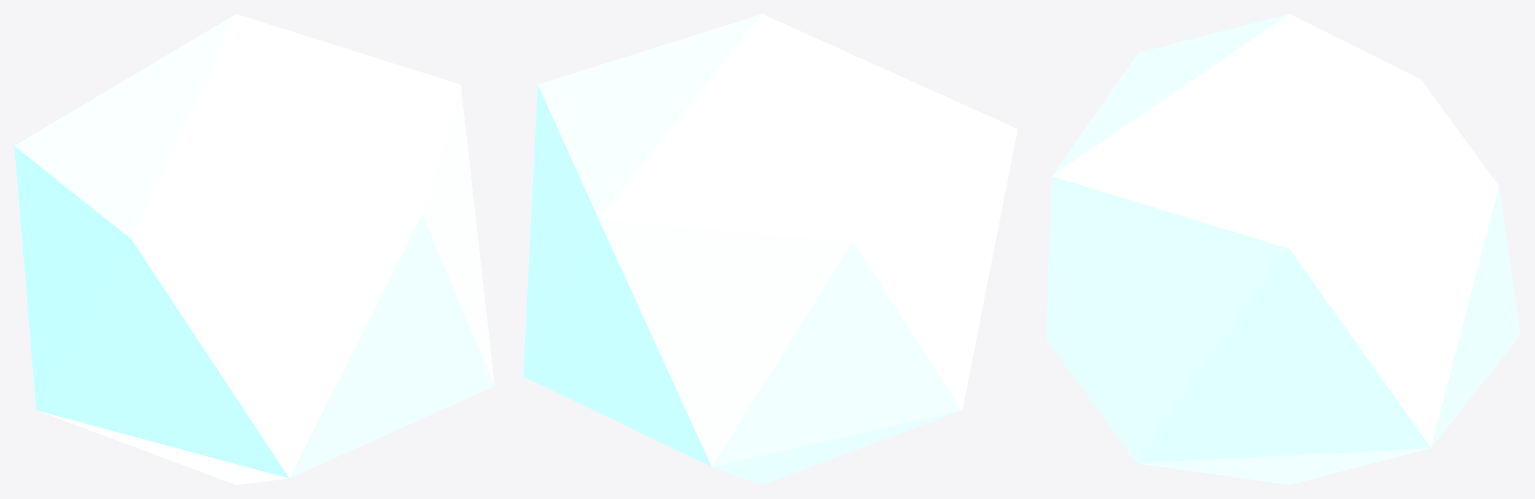
The model's file is a92_cometa.glb.
The picture shows the model from 3 angles, left to right: view 1: azimuth 30°, elevation 25°; view 2: azimuth 150°, elevation 25°; view 3: azimuth 270°, elevation 25°; orthographic projection.
Parts seen in each view (by area): view 1: a92_cometa; view 2: a92_cometa; view 3: a92_cometa.
Part boxes in pixels (left/top/right/bottom): a92_cometa: left=14, top=14, right=494, bottom=484; a92_cometa: left=523, top=14, right=1017, bottom=484; a92_cometa: left=1046, top=14, right=1520, bottom=484.
Bounding box in the file's own units: 1.44 × 1.53 × 1.4.
